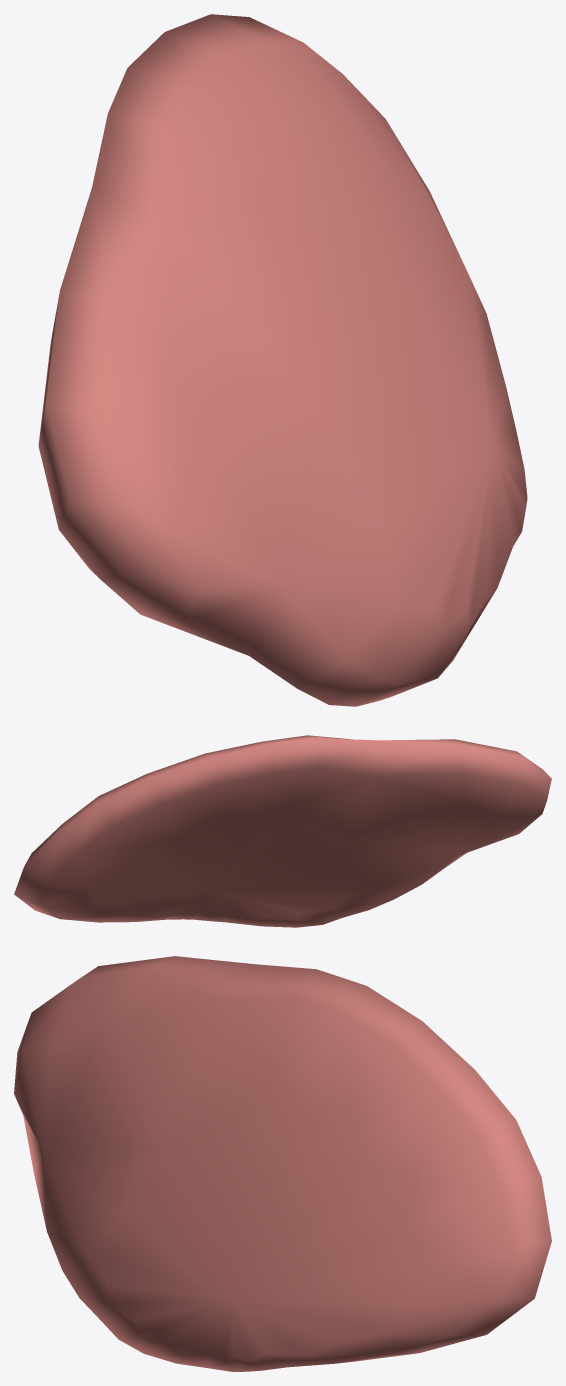
The picture shows the model from 3 angles, top to bottom: view 1: azimuth 30°, elevation 25°; view 2: azimuth 150°, elevation 25°; view 3: azimuth 270°, elevation 25°; orthographic projection. The views are drawn at different scales.
Visible parts, largest first — view 1: ZA_4fffd27f3d8a712a; view 2: ZA_4fffd27f3d8a712a; view 3: ZA_4fffd27f3d8a712a.
Part boxes in pixels (box(x1,y1,x2,y2)): ZA_4fffd27f3d8a712a: box(38, 14, 527, 706); ZA_4fffd27f3d8a712a: box(14, 735, 551, 927); ZA_4fffd27f3d8a712a: box(14, 956, 551, 1371).
Size of the model in its own units: 0.0035 by 0.00242 by 0.0036.
